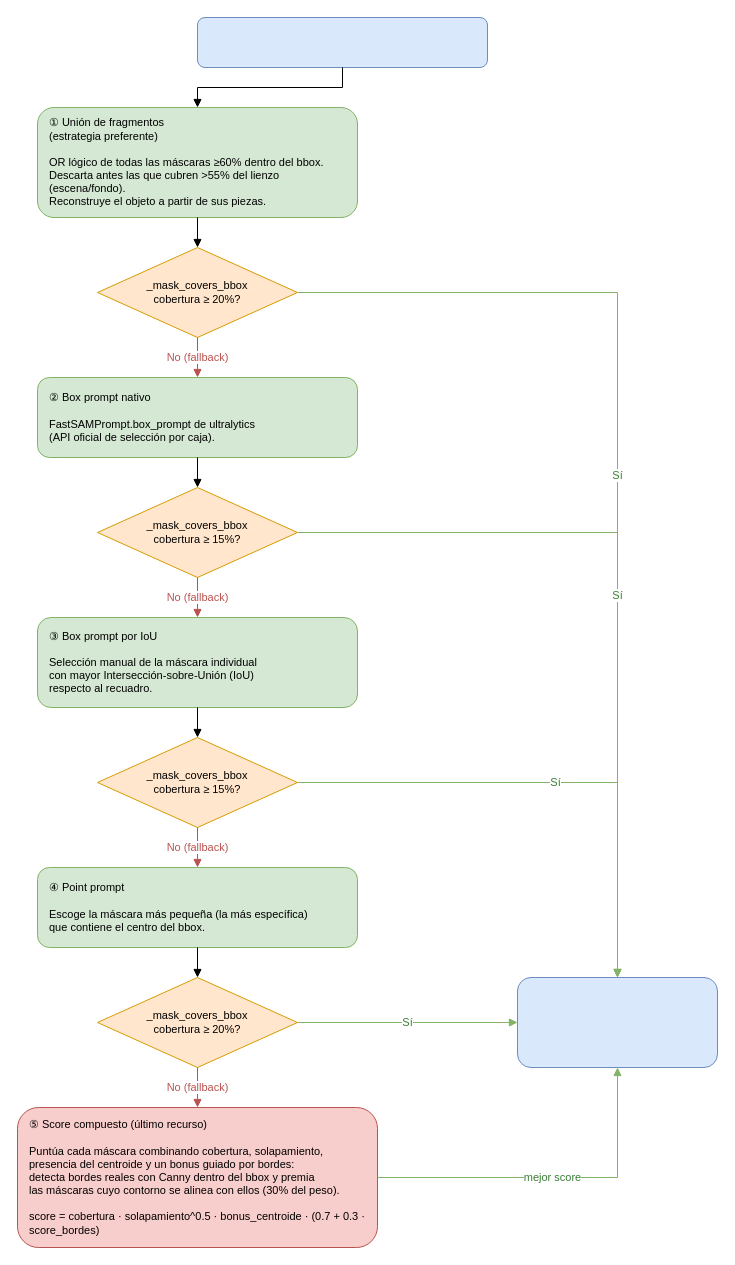
The diagram is 735 pixels wide and 1265 high, and some of its shapes have lost their labels. Here are the shapes that lost their labels. From the top down, the centre of each, then its label:
the point at 342,42: Máscaras candidatas de FastSAM (bbox en coordenadas del lienzo)
the point at 617,1022: ✓ Máscara seleccionada → postprocesado RGBA
